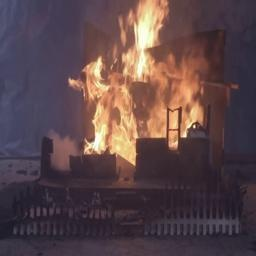fire: (68, 3, 220, 146)
